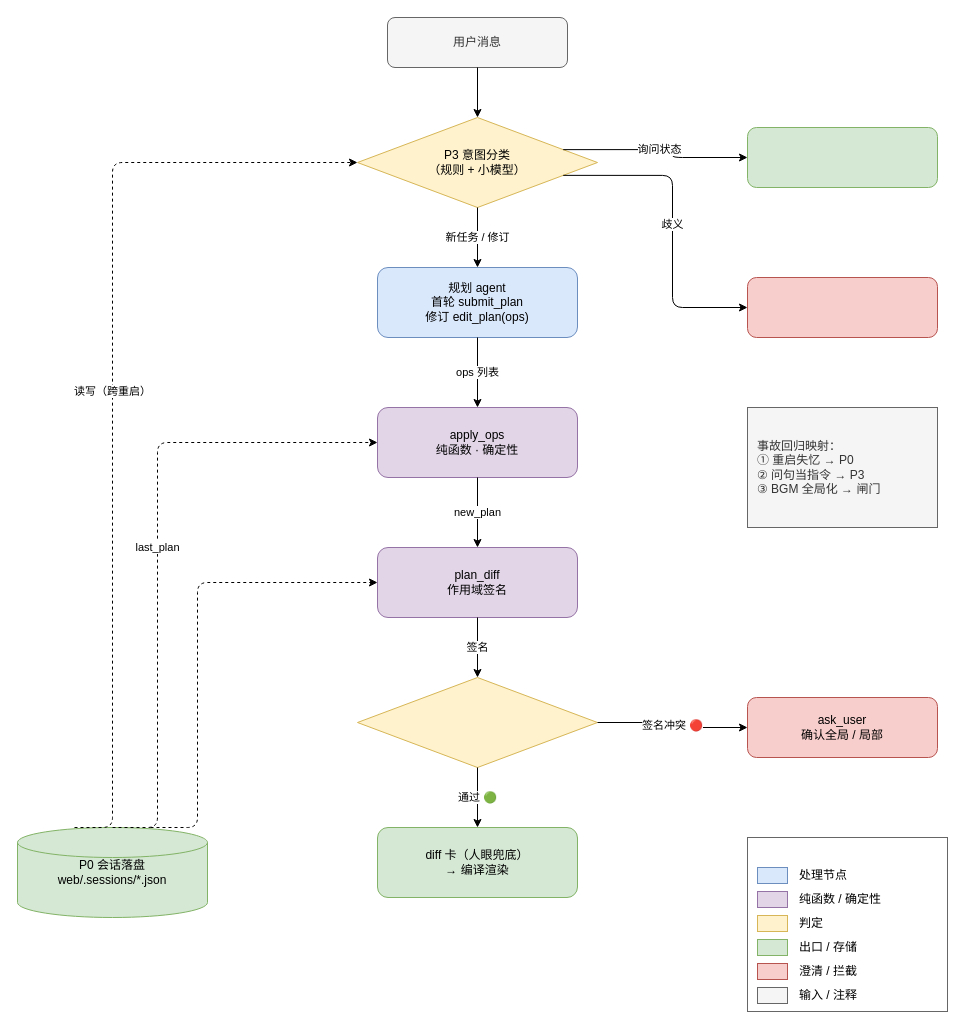
This 965x1029 diagram has some shape labels left out. The box of each missing label's shape, as (x1, y1, x2, y2) in pixels:
ask_user 澄清歧义: (746, 276, 938, 338)
Legend: (746, 836, 948, 1012)
作用域闸门 指代粒度 × 影响半径: (356, 676, 598, 768)
状态直答 （session 事实汇报）: (746, 126, 938, 188)
